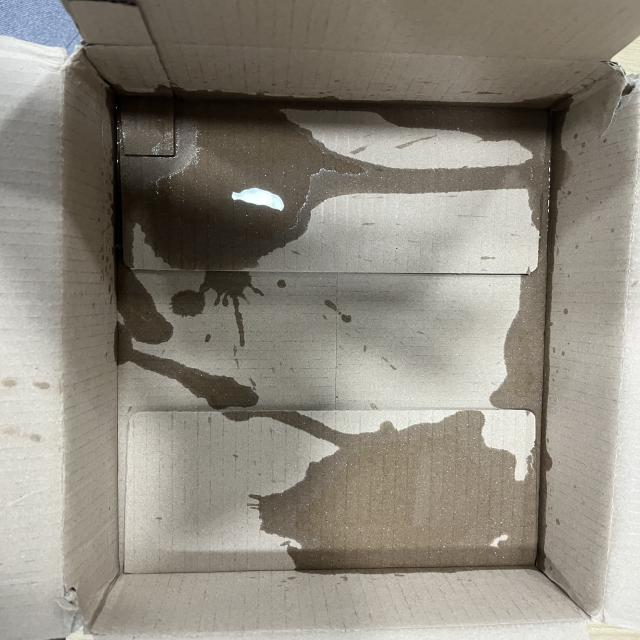wet: (146, 408, 538, 576), (93, 69, 339, 283), (107, 286, 294, 438), (452, 95, 583, 223), (494, 269, 566, 403)
